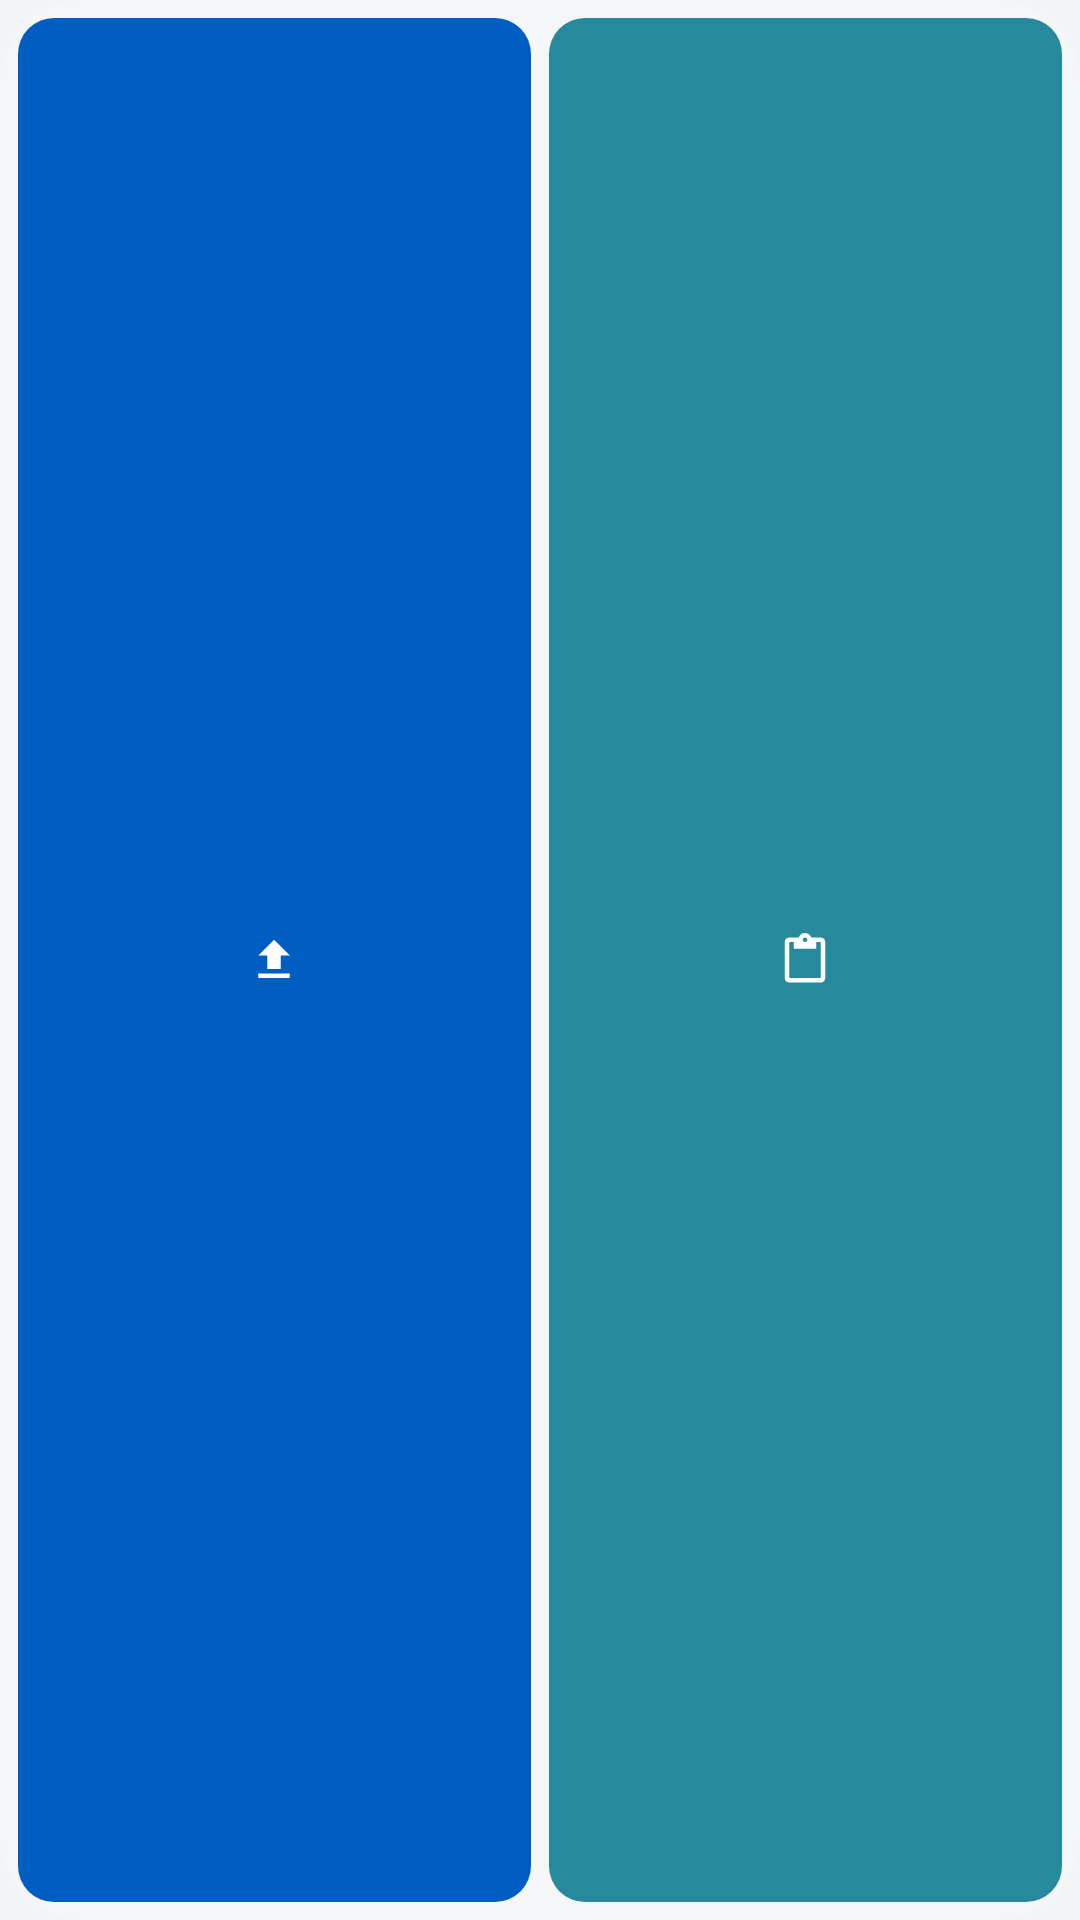

Icon bounding boxes for this 1080px×1920px phone screenshot, format (x1, y1, x2, y2):
clipboard: (784, 933, 826, 983)
upload: (258, 940, 290, 978)
